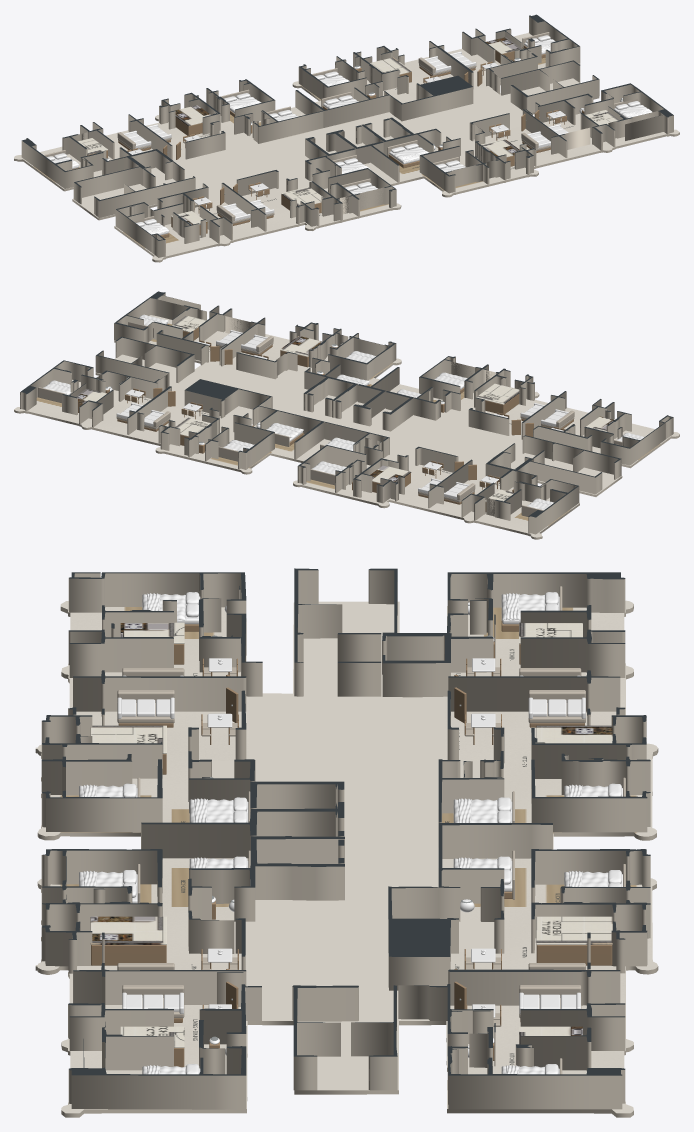
Rendered from coral-group.glb.
3 renders of one model, top to bottom at view 1: azimuth 30°, elevation 25°; view 2: azimuth 150°, elevation 25°; view 3: azimuth 270°, elevation 25°, orthographic. The views are drawn at different scales.
Parts seen in each view (by area): view 1: Partition walls, Apartment floor, Stone worktop.001, Stone worktop.006, Stone worktop.005, Stone worktop.002; view 2: Partition walls, Apartment floor, Stone worktop.006, Stone worktop.005, Stone worktop.001, Stone worktop.002; view 3: Partition walls, Apartment floor, Stone worktop.002, Stone worktop.005, Stone worktop.006, Stone worktop.001, Kitchen cabinets.002, Kitchen cabinets.005, Stone worktop.007, Stone worktop.
Boxes of the visible parts, x1,y1,x2,y2 form: Partition walls: (21,14,673,257); Apartment floor: (14,32,679,262); Stone worktop.001: (175,105,210,126); Stone worktop.006: (281,186,323,205); Stone worktop.005: (481,139,519,157); Stone worktop.002: (370,57,412,74); Partition walls: (20,291,673,534); Apartment floor: (14,315,679,539); Stone worktop.006: (476,383,519,404); Stone worktop.005: (280,336,322,356); Stone worktop.001: (370,465,411,483); Stone worktop.002: (175,417,210,436); Partition walls: (41,568,650,1109); Apartment floor: (35,600,658,1117); Stone worktop.002: (536,916,612,944); Stone worktop.005: (90,916,166,944); Stone worktop.006: (90,725,166,753); Stone worktop.001: (536,725,612,743); Kitchen cabinets.002: (536,945,612,965); Kitchen cabinets.005: (91,945,166,965); Stone worktop.007: (120,622,184,643); Stone worktop: (519,622,582,643).
Size of the model in its own units: 41.73 by 1.44 by 21.37.
Materials: 12 (2 with a texture image).
